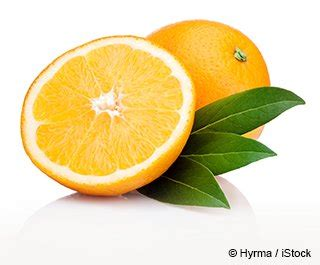orange: (145, 18, 272, 130)
